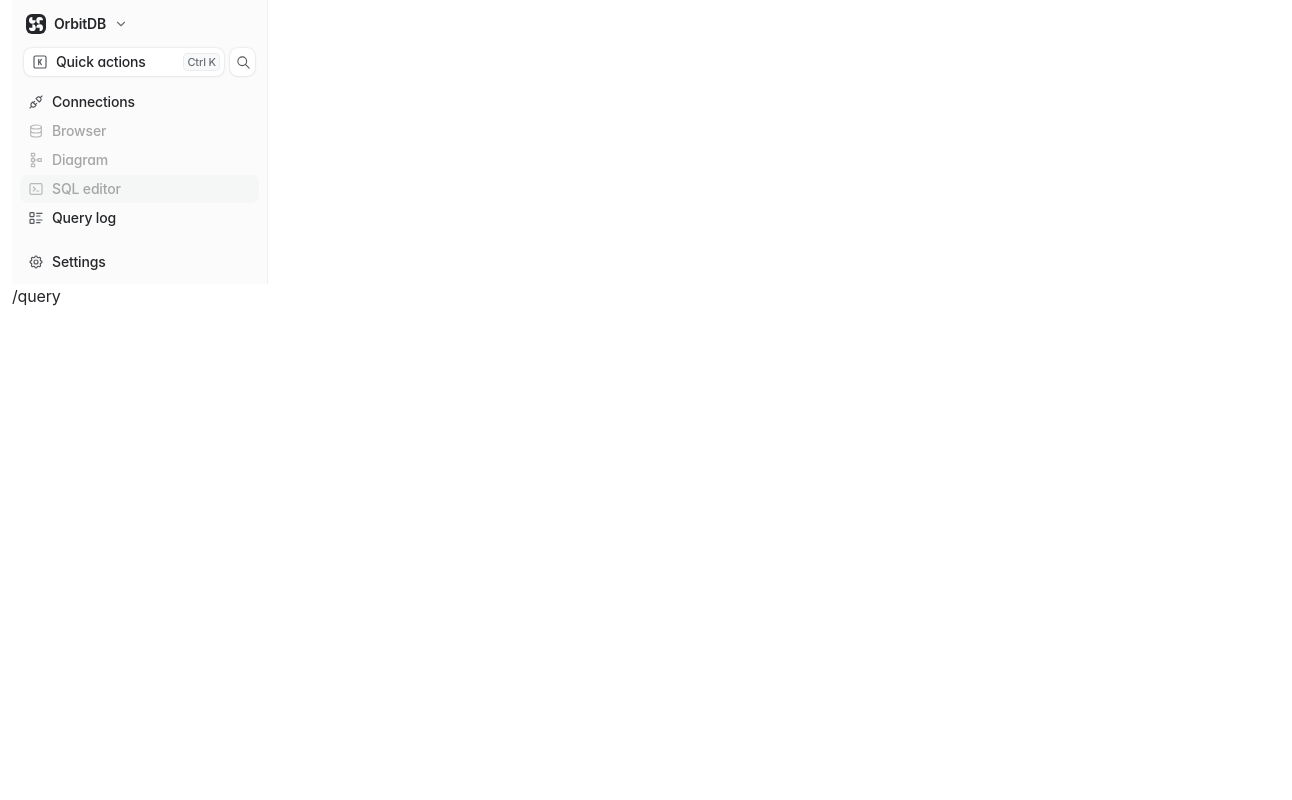
switching connections from the sidebar › says why a connect failed, rather than landing on a page that stays silent
Press Enter in the button "OrbitDB", box top-left (20, 8), bottom-right (134, 40)
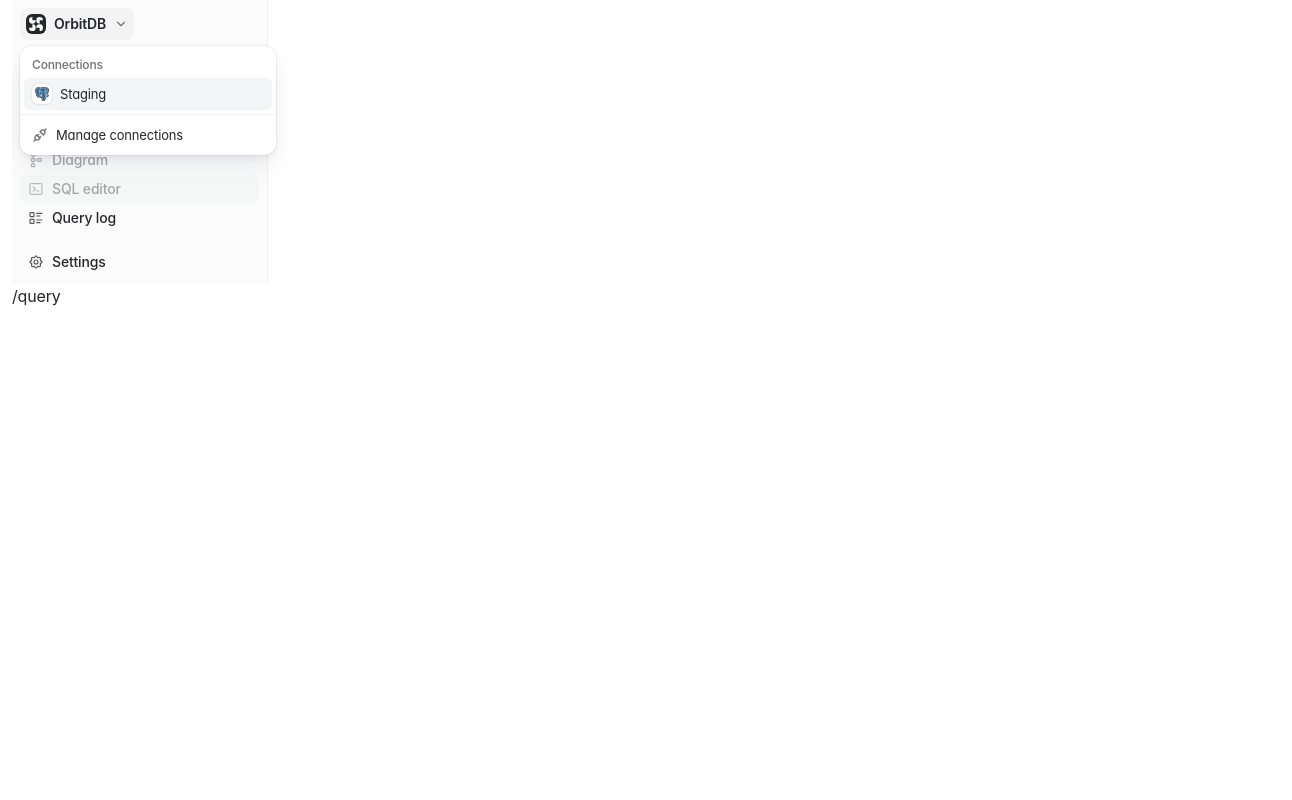
Click the menu item "Staging": coordinates (148, 94) top-left (24, 78), bottom-right (272, 110)
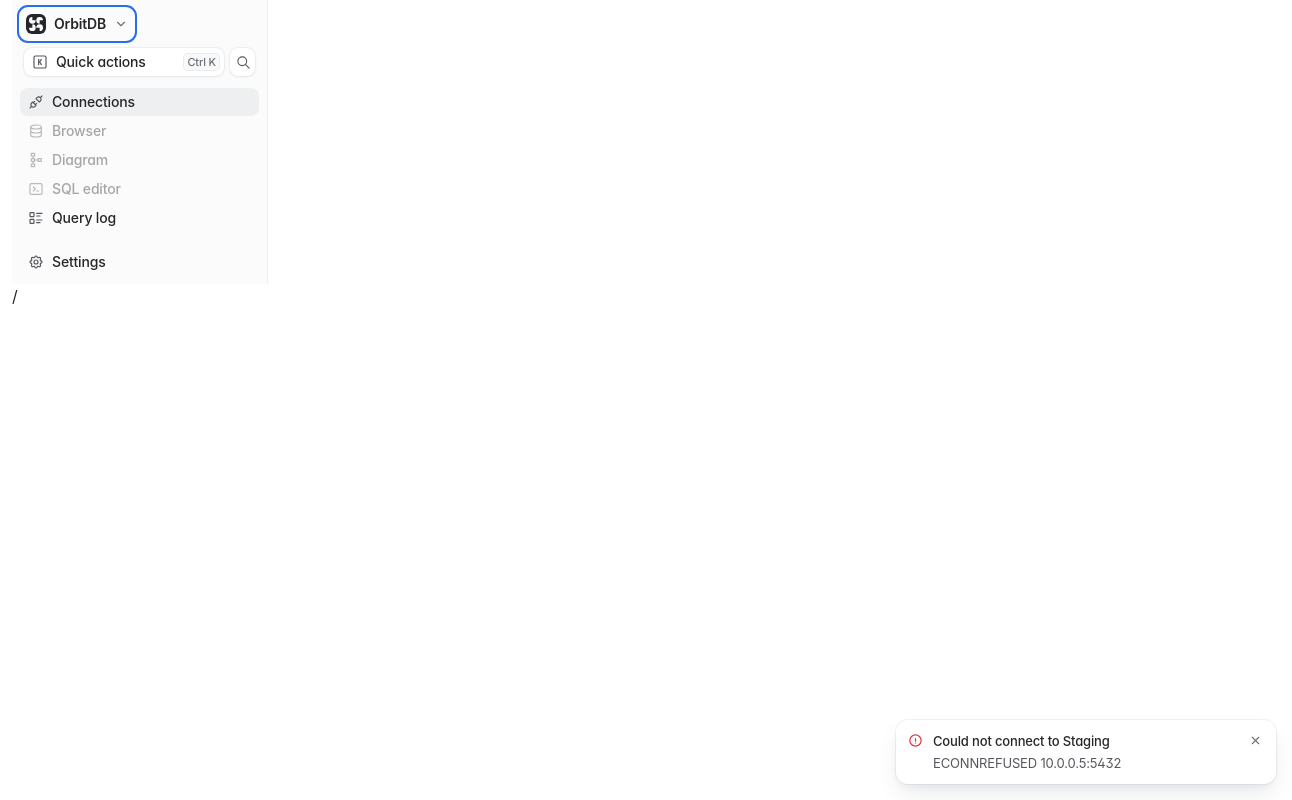
Expected: the text with test id "path" reads "/", top-left (12, 286), bottom-right (18, 306)
Now the text "Could not connect to Staging" is shown, box top-left (933, 732), bottom-right (1110, 750)
Now the text "ECONNREFUSED 10.0.0.5:5432" is shown, box top-left (933, 755), bottom-right (1121, 771)
